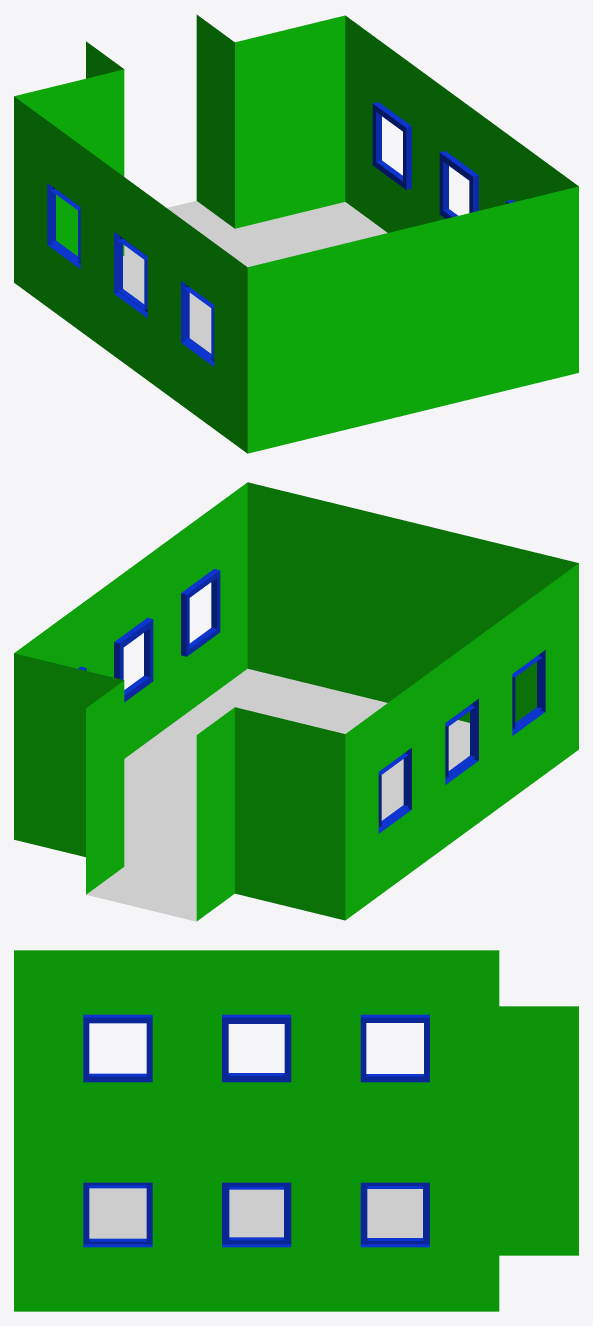
File: Base Interior.fbx
The picture shows the model from 3 angles, top to bottom: view 1: azimuth 30°, elevation 25°; view 2: azimuth 150°, elevation 25°; view 3: azimuth 270°, elevation 25°; orthographic projection. The views are drawn at different scales.
Parts seen in each view (by area): view 1: Plane.007; view 2: Plane.007; view 3: Plane.007.
Boxes of the visible parts, x1,y1,x2,y2 form: Plane.007: (14,14,578,453); Plane.007: (14,482,578,921); Plane.007: (14,950,578,1311).
Size of the model in its own units: 483 by 260 by 686.
